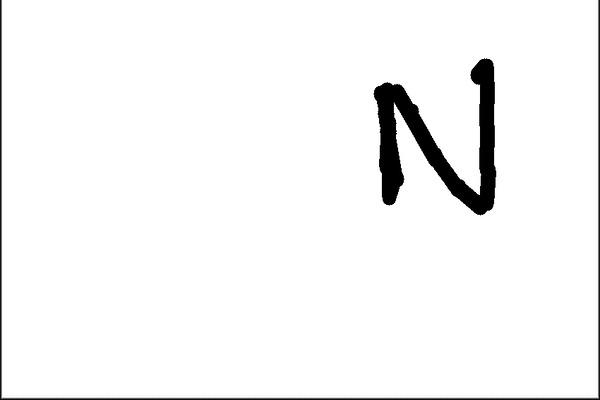N: (369, 54, 502, 220)
